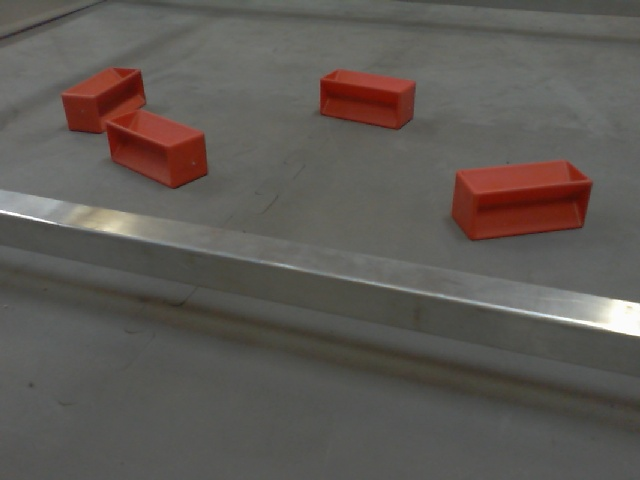RedSample: (449, 154, 594, 239), (107, 108, 212, 184), (319, 65, 416, 129), (57, 64, 145, 132)
